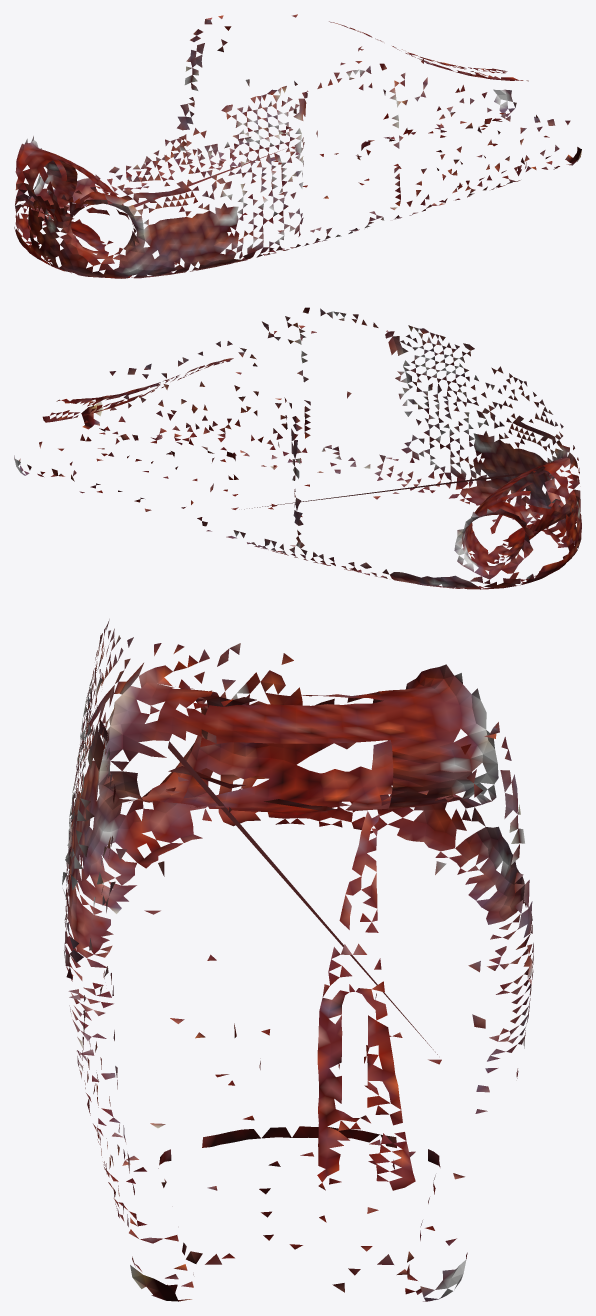
Rendered from whistle_final500.obj.
The picture shows the model from 3 angles, top to bottom: view 1: azimuth 30°, elevation 25°; view 2: azimuth 150°, elevation 25°; view 3: azimuth 270°, elevation 25°; orthographic projection. The views are drawn at different scales.
Size of the model in its own units: 1.92 by 0.5825 by 0.7608.
